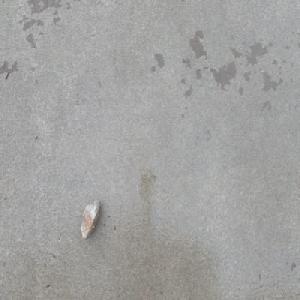Rock: (80, 197, 100, 242)
